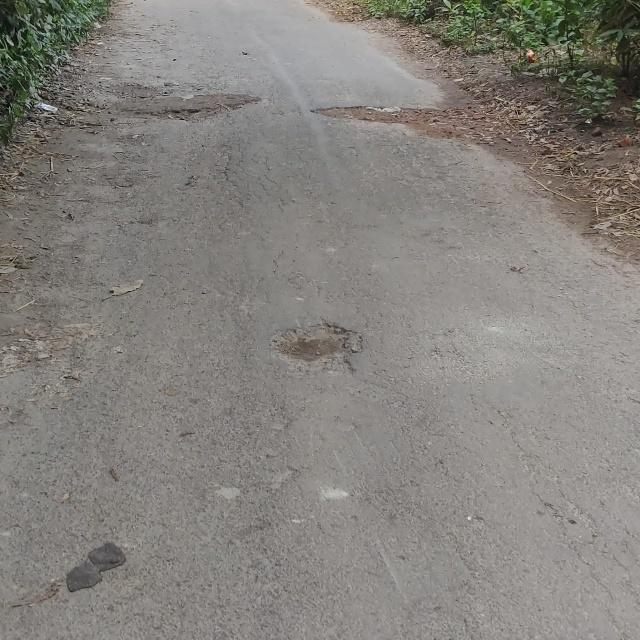Surface Erosion: (66, 46, 602, 197), (170, 262, 443, 412)
